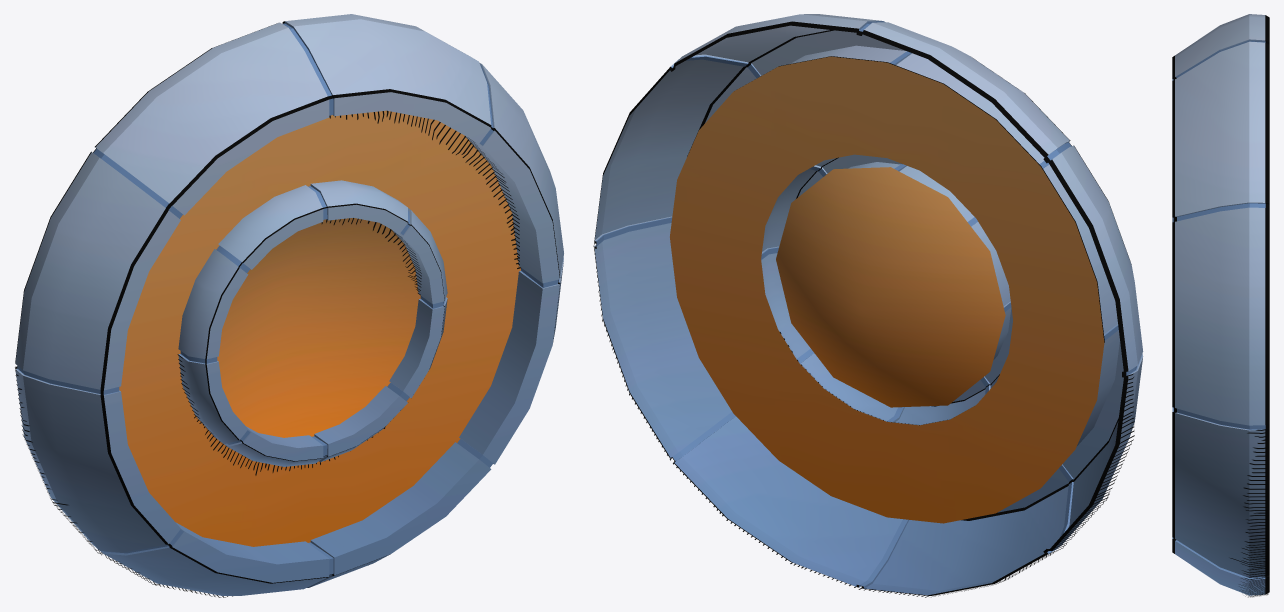
Rendered from sci-fi-wall-circle.glb.
The picture shows the model from 3 angles, left to right: view 1: azimuth 30°, elevation 25°; view 2: azimuth 150°, elevation 25°; view 3: azimuth 270°, elevation 25°; orthographic projection. The views are drawn at different scales.
Parts seen in each view (by area): view 1: SciFi_Wall_Circle; view 2: SciFi_Wall_Circle; view 3: SciFi_Wall_Circle.
Boxes of the visible parts, left/top/right/bottom form: SciFi_Wall_Circle: left=15, top=14, right=563, bottom=597; SciFi_Wall_Circle: left=593, top=14, right=1143, bottom=597; SciFi_Wall_Circle: left=1172, top=14, right=1269, bottom=597.
Size of the model in its own units: 1.82 by 1.81 by 0.3024.
2 materials, 2 textured.
